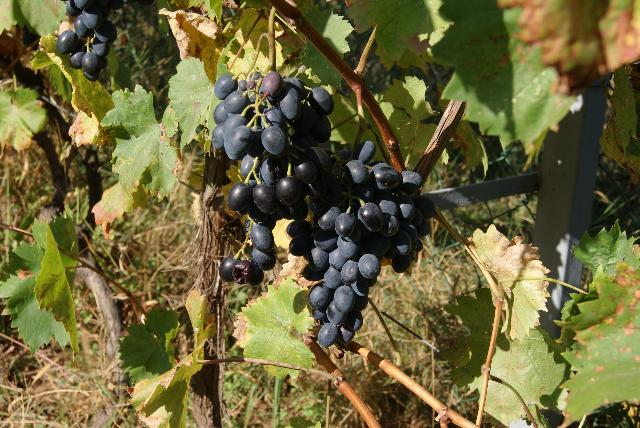grapes: (276, 141, 435, 348), (211, 70, 332, 284), (56, 0, 125, 81)
